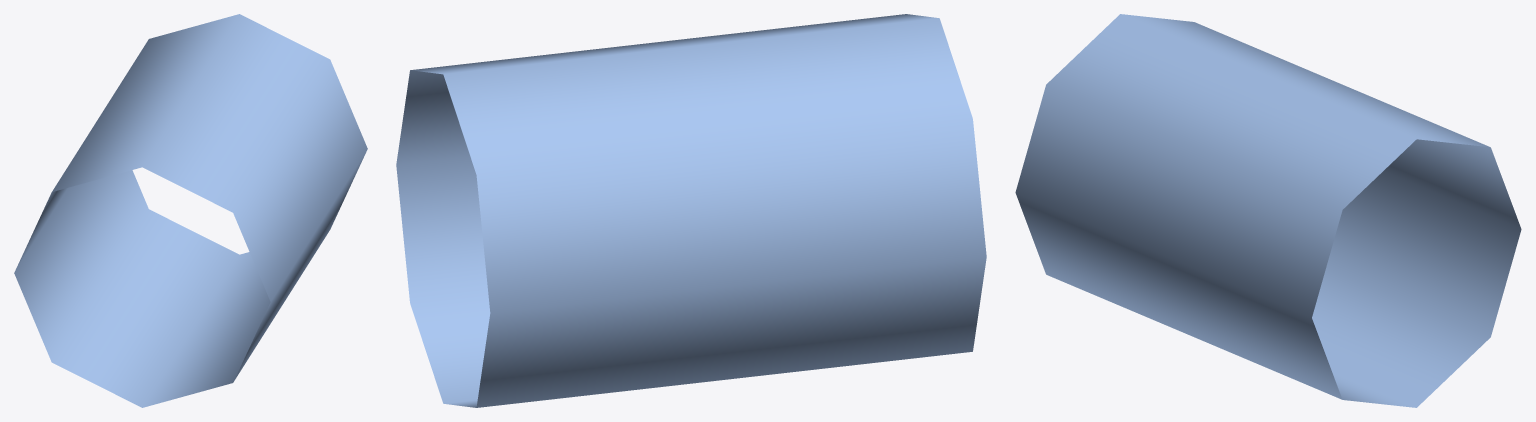
File: PipeSmall_StraightDiagonal_02.fbx
3 renders of one model, left to right at view 1: azimuth 30°, elevation 25°; view 2: azimuth 150°, elevation 25°; view 3: azimuth 270°, elevation 25°, orthographic. The views are drawn at different scales.
Parts seen in each view (by area): view 1: PipeSmall_StraightDiagonal_02.001; view 2: PipeSmall_StraightDiagonal_02.001; view 3: PipeSmall_StraightDiagonal_02.001.
Boxes of the visible parts, left/top/right/bottom form: PipeSmall_StraightDiagonal_02.001: left=14, top=14, right=367, bottom=407; PipeSmall_StraightDiagonal_02.001: left=396, top=14, right=986, bottom=407; PipeSmall_StraightDiagonal_02.001: left=1015, top=14, right=1521, bottom=407.
Size of the model in its own units: 0.1707 by 0.1 by 0.1707.
